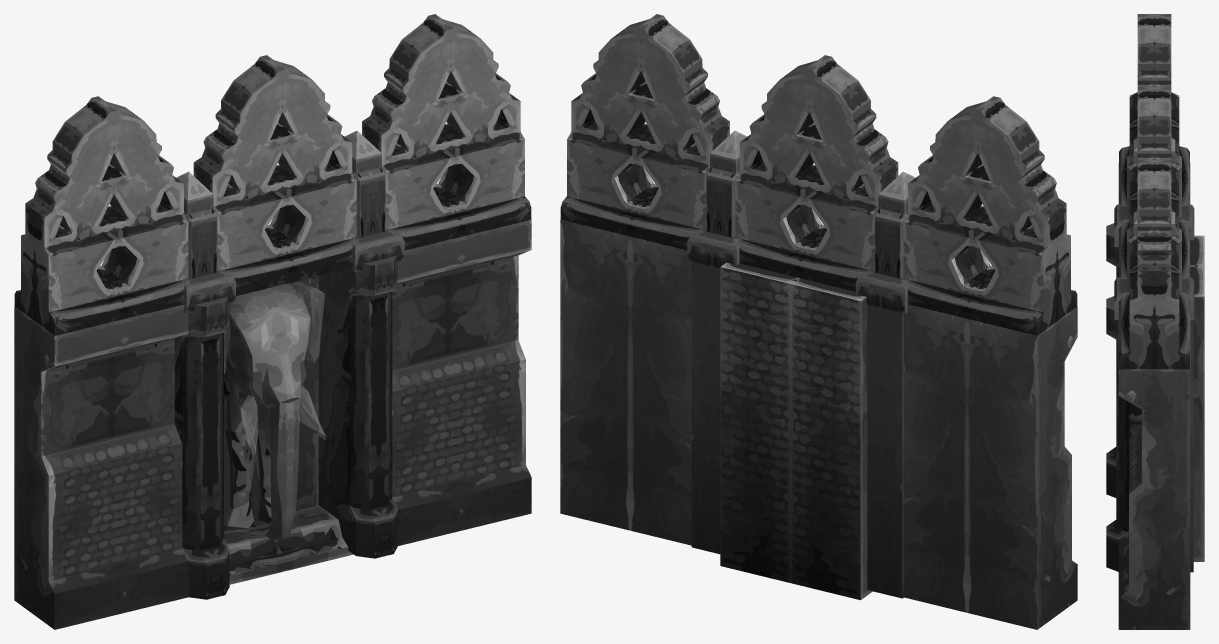
The model's file is VV-WalakuluBemma-7.fbx.
3 renders of one model, left to right at view 1: azimuth 30°, elevation 25°; view 2: azimuth 150°, elevation 25°; view 3: azimuth 270°, elevation 25°, orthographic. The views are drawn at different scales.
Visible parts, largest first — view 1: WalakuluBemmaBuild-7; view 2: WalakuluBemmaBuild-7; view 3: WalakuluBemmaBuild-7.
Part boxes in pixels (<box>): WalakuluBemmaBuild-7: <box>14,14,531,629</box>; WalakuluBemmaBuild-7: <box>560,14,1077,629</box>; WalakuluBemmaBuild-7: <box>1106,14,1204,629</box>.
Size of the model in its own units: 3.4 by 3.4 by 0.6858.
